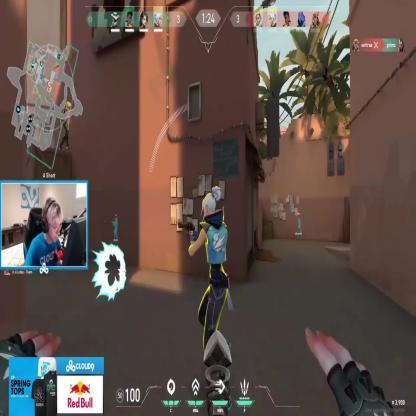enemy: (186, 185, 230, 378)
enemy_head: (200, 186, 221, 220)
